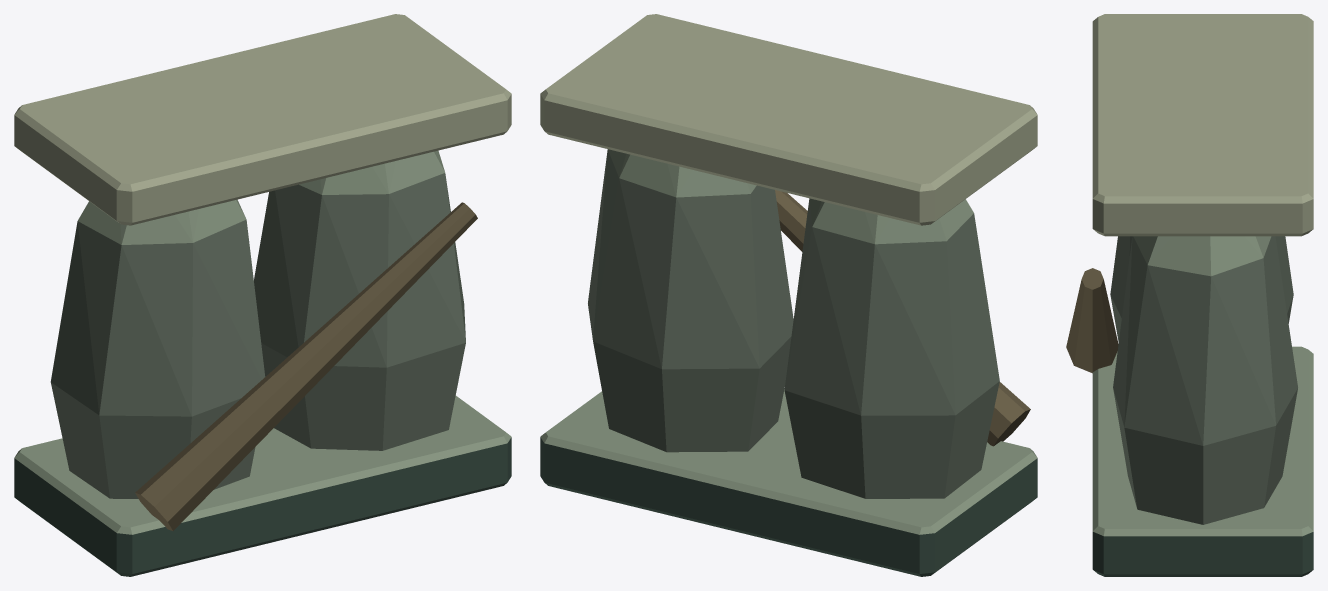
The model's file is wall-short.glb.
3 views of the same model, side by side, from view 1: azimuth 30°, elevation 25°; view 2: azimuth 150°, elevation 25°; view 3: azimuth 270°, elevation 25° (orthographic). The views are drawn at different scales.
Parts seen in each view (by area): view 1: wall-short__body; view 2: wall-short__body; view 3: wall-short__body.
Boxes of the visible parts, box(x1,y1,x2,y2) form: wall-short__body: box(14, 14, 511, 576); wall-short__body: box(540, 14, 1037, 576); wall-short__body: box(1066, 14, 1313, 576).
Bounding box in the file's own units: 1.01 × 0.95 × 0.56.
